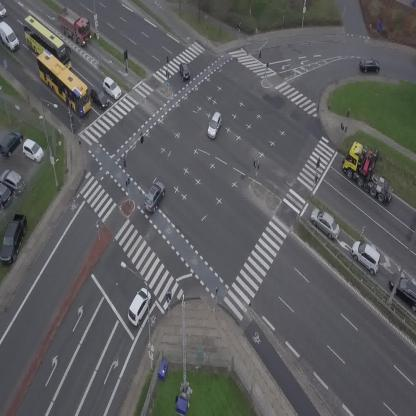bicycle: (68, 114, 75, 129)
bus: (28, 47, 100, 118), (12, 13, 81, 75)
car: (346, 237, 388, 277), (305, 205, 346, 242), (123, 286, 155, 327), (139, 178, 169, 215), (85, 84, 113, 111), (99, 75, 125, 101), (204, 111, 225, 140), (358, 56, 381, 74), (177, 61, 192, 81), (0, 2, 7, 18)
lorry: (335, 134, 399, 214), (51, 4, 100, 50), (0, 19, 23, 54)
